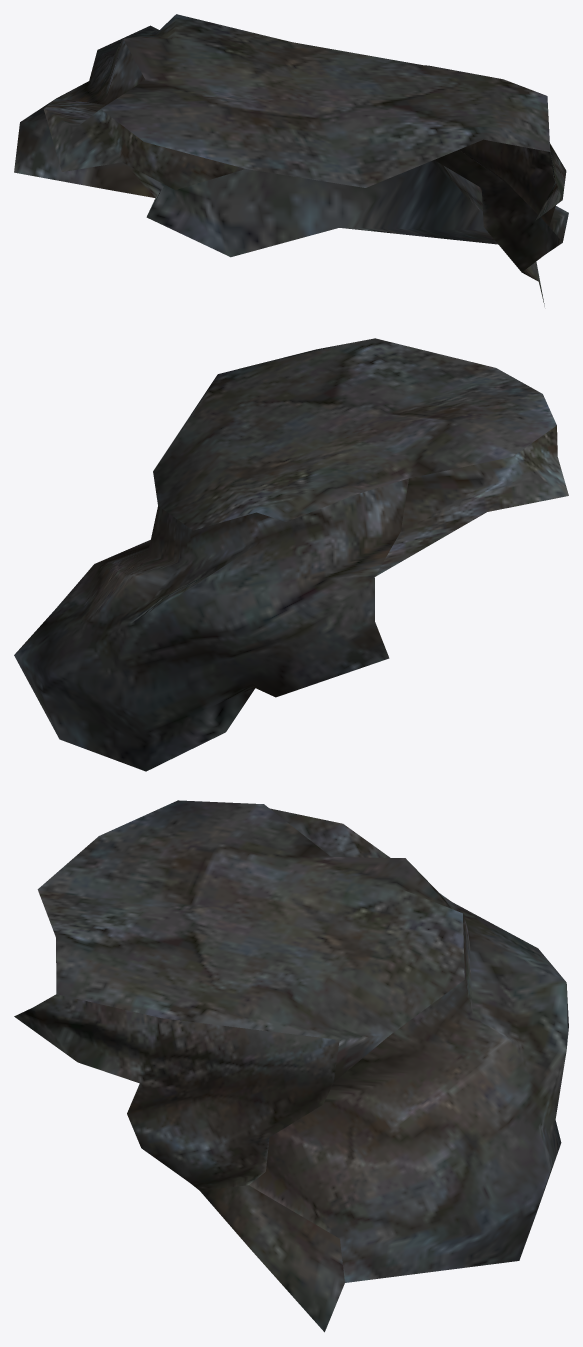
File: S_Rock_Yellow036_H07.FBX
3 views of the same model, one above another, from view 1: azimuth 30°, elevation 25°; view 2: azimuth 150°, elevation 25°; view 3: azimuth 270°, elevation 25° (orthographic). The views are drawn at different scales.
Visible parts, largest first — view 1: S_Rock_Yellow036_H07; view 2: S_Rock_Yellow036_H07; view 3: S_Rock_Yellow036_H07.
Boxes of the visible parts, <box> form: S_Rock_Yellow036_H07: <box>14,14,568,306</box>; S_Rock_Yellow036_H07: <box>14,338,568,771</box>; S_Rock_Yellow036_H07: <box>14,800,568,1332</box>.
Bounding box in the file's own units: 885 × 874 × 550.
1 material, 1 textured.
